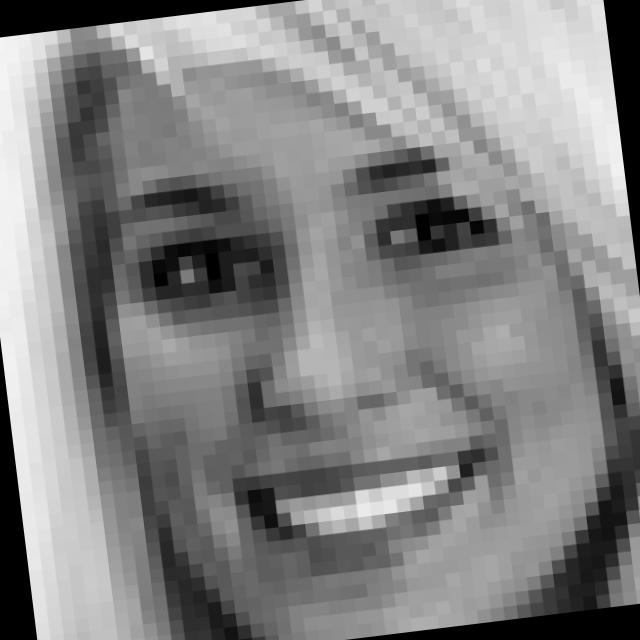happy: (104, 122, 571, 616)
